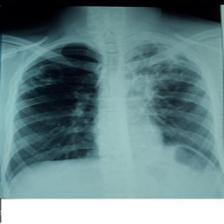tuberculosis: (5, 35, 224, 196)
